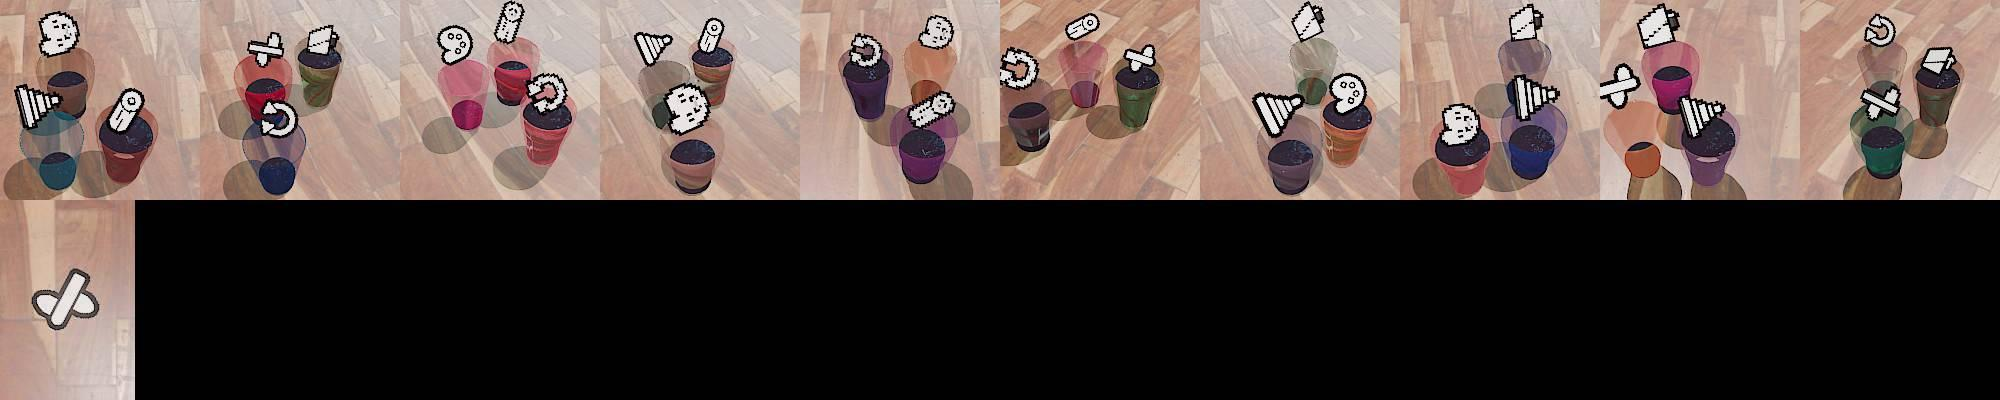icon: (29, 265, 103, 330), (1508, 72, 1562, 122), (1251, 91, 1303, 138), (663, 83, 711, 133), (14, 82, 63, 130), (1677, 94, 1727, 141), (905, 89, 957, 131), (1636, 3, 1682, 50), (1598, 62, 1643, 107), (523, 72, 569, 115), (38, 11, 80, 58), (107, 85, 145, 135), (1440, 101, 1482, 146), (1000, 47, 1040, 94), (1326, 72, 1368, 115), (1858, 80, 1902, 120), (259, 96, 298, 138), (634, 30, 674, 68), (493, 0, 526, 45), (437, 24, 473, 65), (246, 31, 285, 68), (1508, 3, 1543, 42), (1291, 1, 1324, 42), (694, 17, 726, 58), (847, 32, 883, 68), (920, 13, 955, 49), (1919, 48, 1958, 80), (304, 23, 339, 57), (1064, 11, 1100, 43), (1864, 13, 1896, 48), (1122, 45, 1155, 75)
